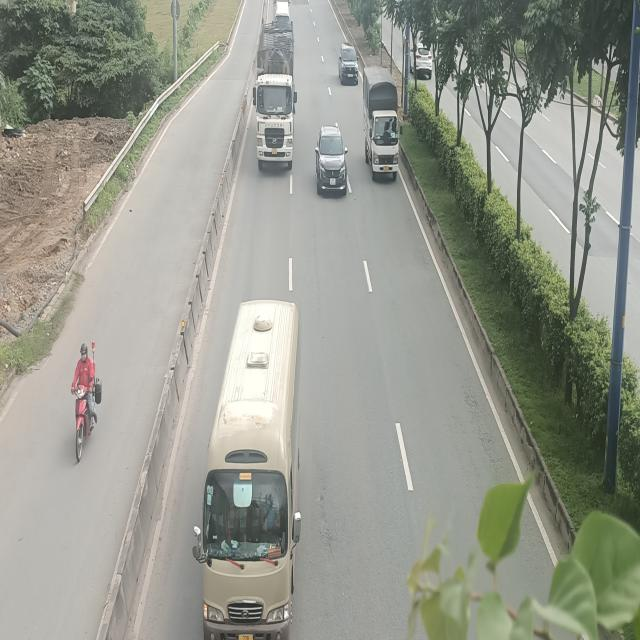car: (314, 124, 348, 195), (339, 42, 359, 85)
coach: (194, 301, 302, 640)
truck: (252, 23, 296, 171), (363, 67, 402, 178)
